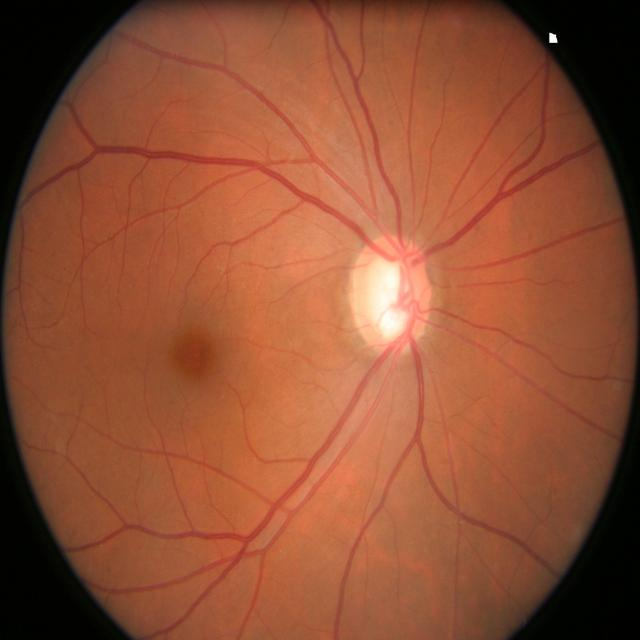OC: (363, 256, 420, 338)
OD: (346, 236, 432, 353)
